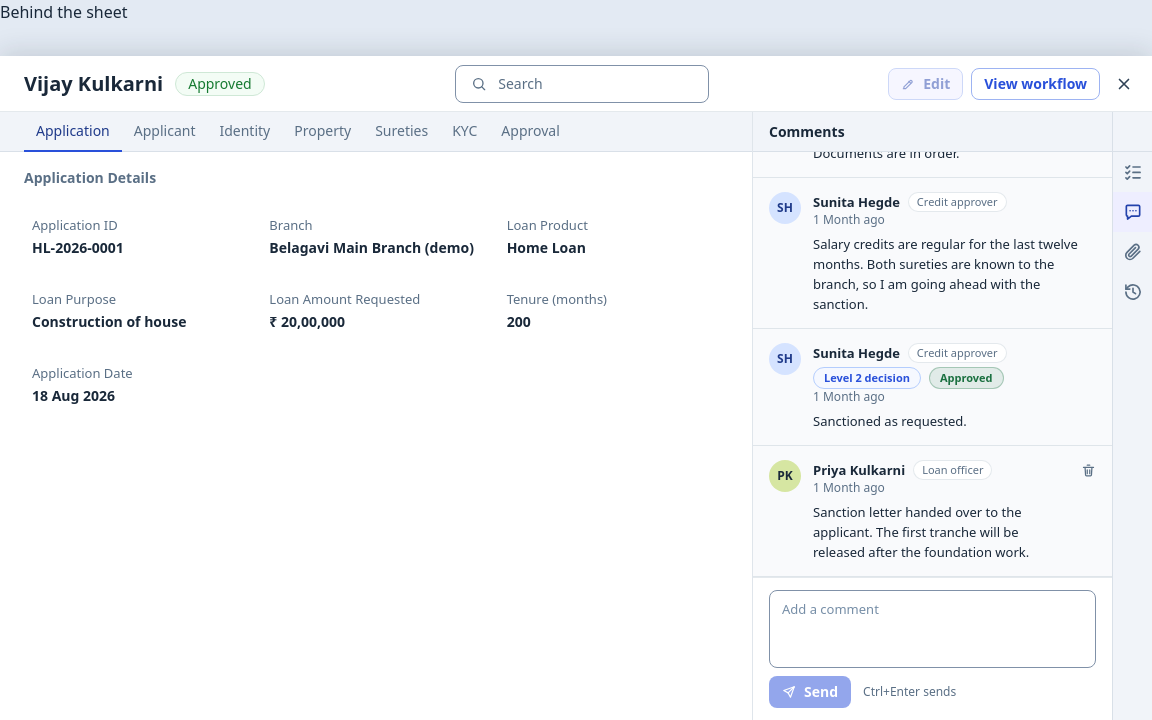
Test: the tabs › Applicant shows the heading "Applicant Details"
(page scrolled)
Click the tab "Applicant" at (165, 132), box [122, 112, 208, 152]
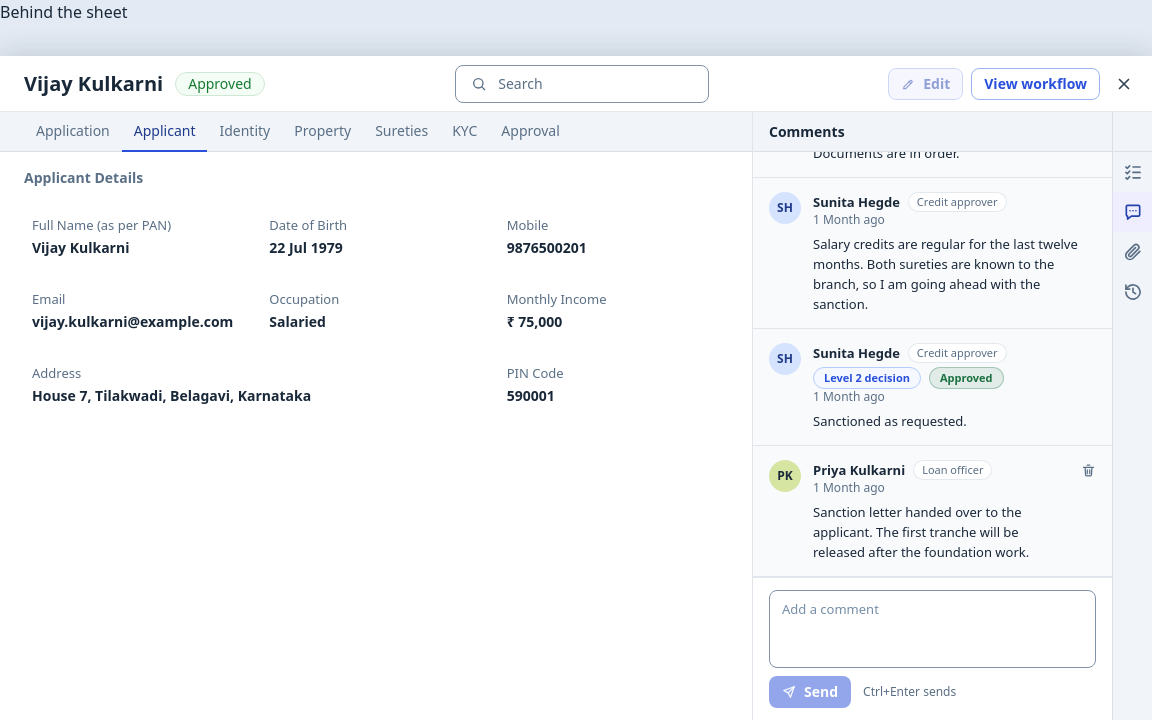
expect the heading "Applicant Details" is shown: met, box [24, 168, 143, 187]
